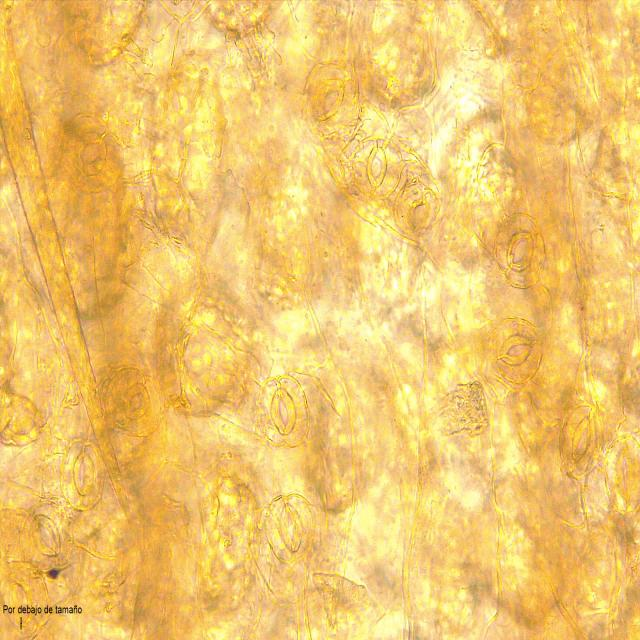Stomata: (57, 110, 131, 198), (297, 61, 364, 141), (16, 498, 79, 580), (100, 366, 167, 440), (490, 210, 548, 292), (253, 373, 313, 452), (262, 490, 320, 567), (486, 315, 544, 391), (58, 436, 108, 516), (556, 402, 604, 483), (351, 135, 406, 201), (601, 432, 640, 520), (391, 180, 443, 237)
